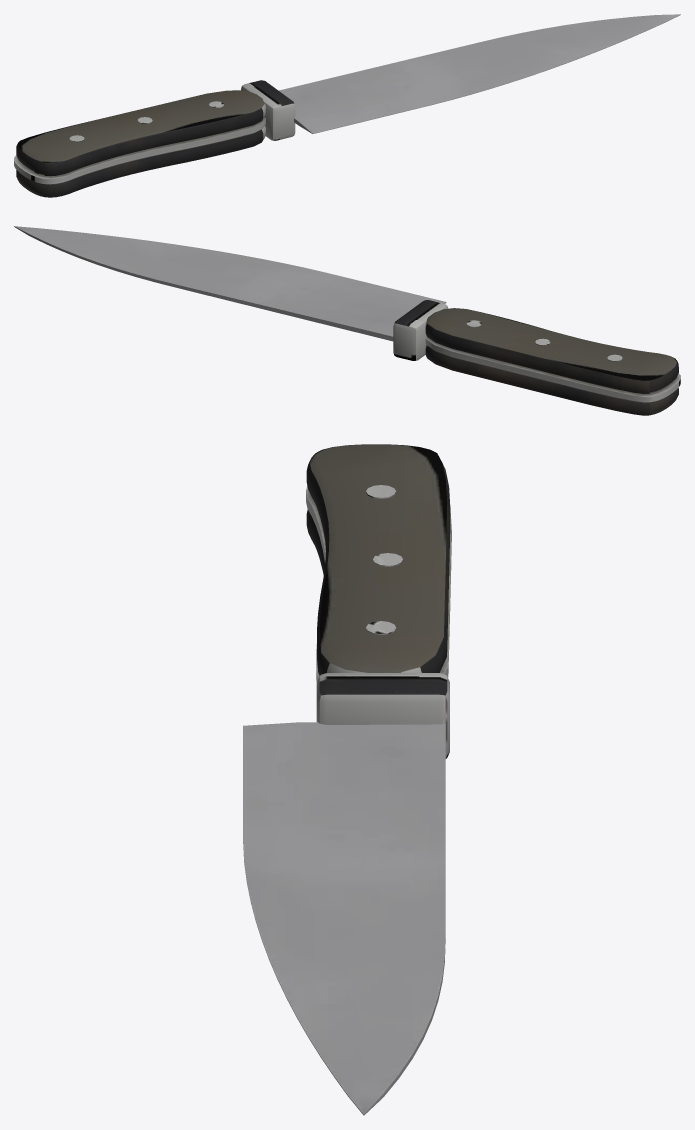
File: faca_cozinha.glb
The picture shows the model from 3 angles, top to bottom: view 1: azimuth 30°, elevation 25°; view 2: azimuth 150°, elevation 25°; view 3: azimuth 270°, elevation 25°; orthographic projection. The views are drawn at different scales.
Parts seen in each view (by area): view 1: lamina, cabo, ferragem; view 2: lamina, cabo, ferragem; view 3: lamina, cabo, ferragem.
Part boxes in pixels (left/top/right/bottom): lamina: left=279, top=14, right=680, bottom=133; cabo: left=14, top=90, right=266, bottom=197; ferragem: left=69, top=80, right=295, bottom=142; lamina: left=14, top=226, right=446, bottom=341; cabo: left=425, top=308, right=680, bottom=415; ferragem: left=393, top=300, right=622, bottom=361; lamina: left=243, top=722, right=445, bottom=1115; cabo: left=306, top=444, right=451, bottom=681; ferragem: left=316, top=485, right=449, bottom=758.
Bounding box in the file's own units: 0.329 × 0.0185 × 0.0454.
1 material, 1 textured.
